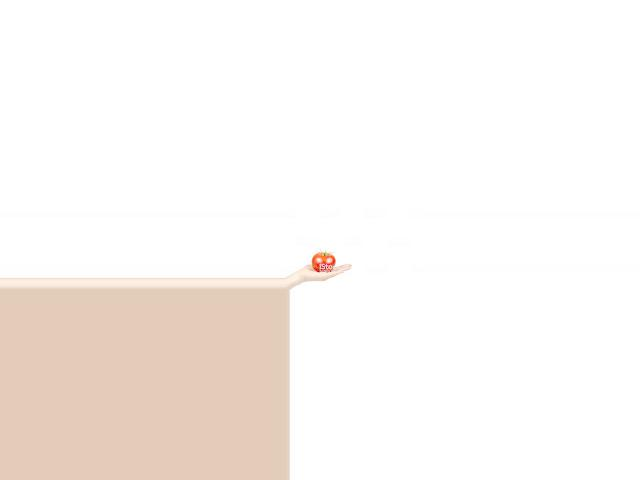tomato: (312, 252, 335, 272)
